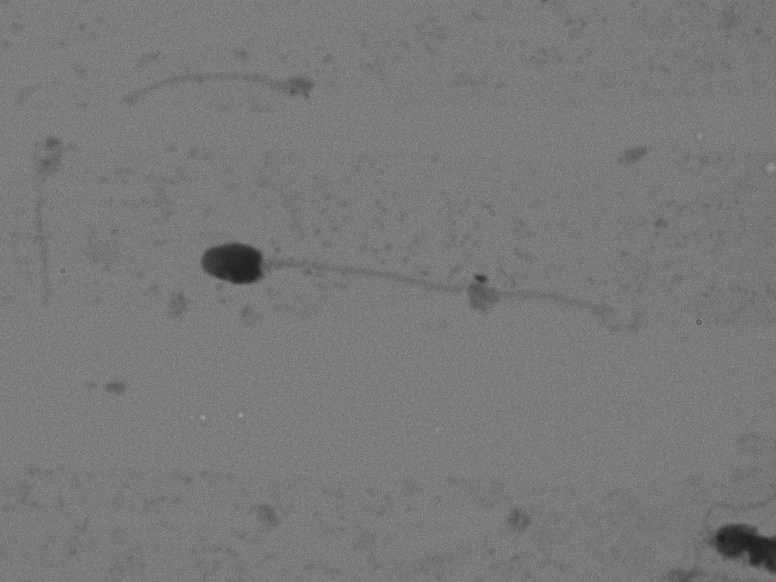Abnormal: (173, 187, 646, 359)
